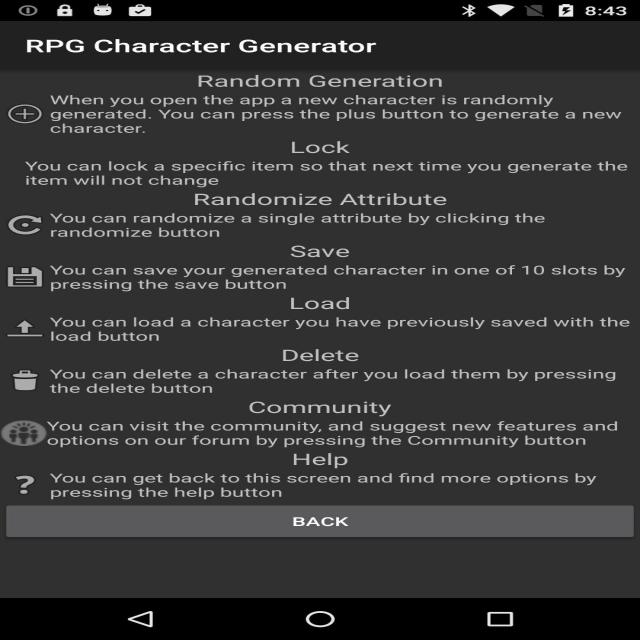button: (9, 506, 640, 536)
icon: (8, 418, 58, 454), (2, 205, 48, 244), (11, 263, 55, 299), (4, 468, 49, 503), (14, 366, 46, 402), (10, 318, 49, 347), (12, 105, 40, 128)
text: (41, 94, 630, 139), (40, 414, 626, 454), (24, 157, 638, 190), (42, 206, 561, 244), (44, 316, 635, 349), (48, 367, 628, 400), (51, 262, 628, 295), (44, 470, 617, 500), (185, 190, 463, 212), (178, 73, 443, 88), (235, 401, 428, 420), (264, 348, 391, 368), (270, 139, 389, 160), (268, 296, 387, 316), (270, 246, 388, 262), (279, 454, 382, 466)
